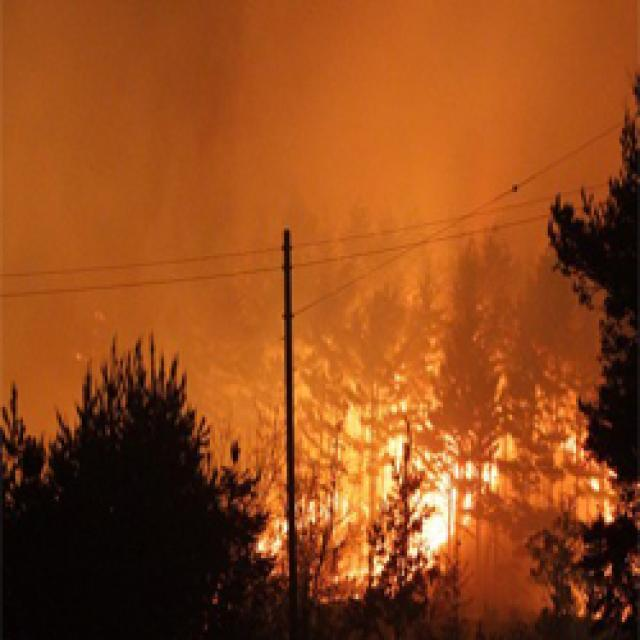Fire: (230, 262, 522, 618), (526, 373, 640, 597)
Smoke: (0, 0, 636, 323)
